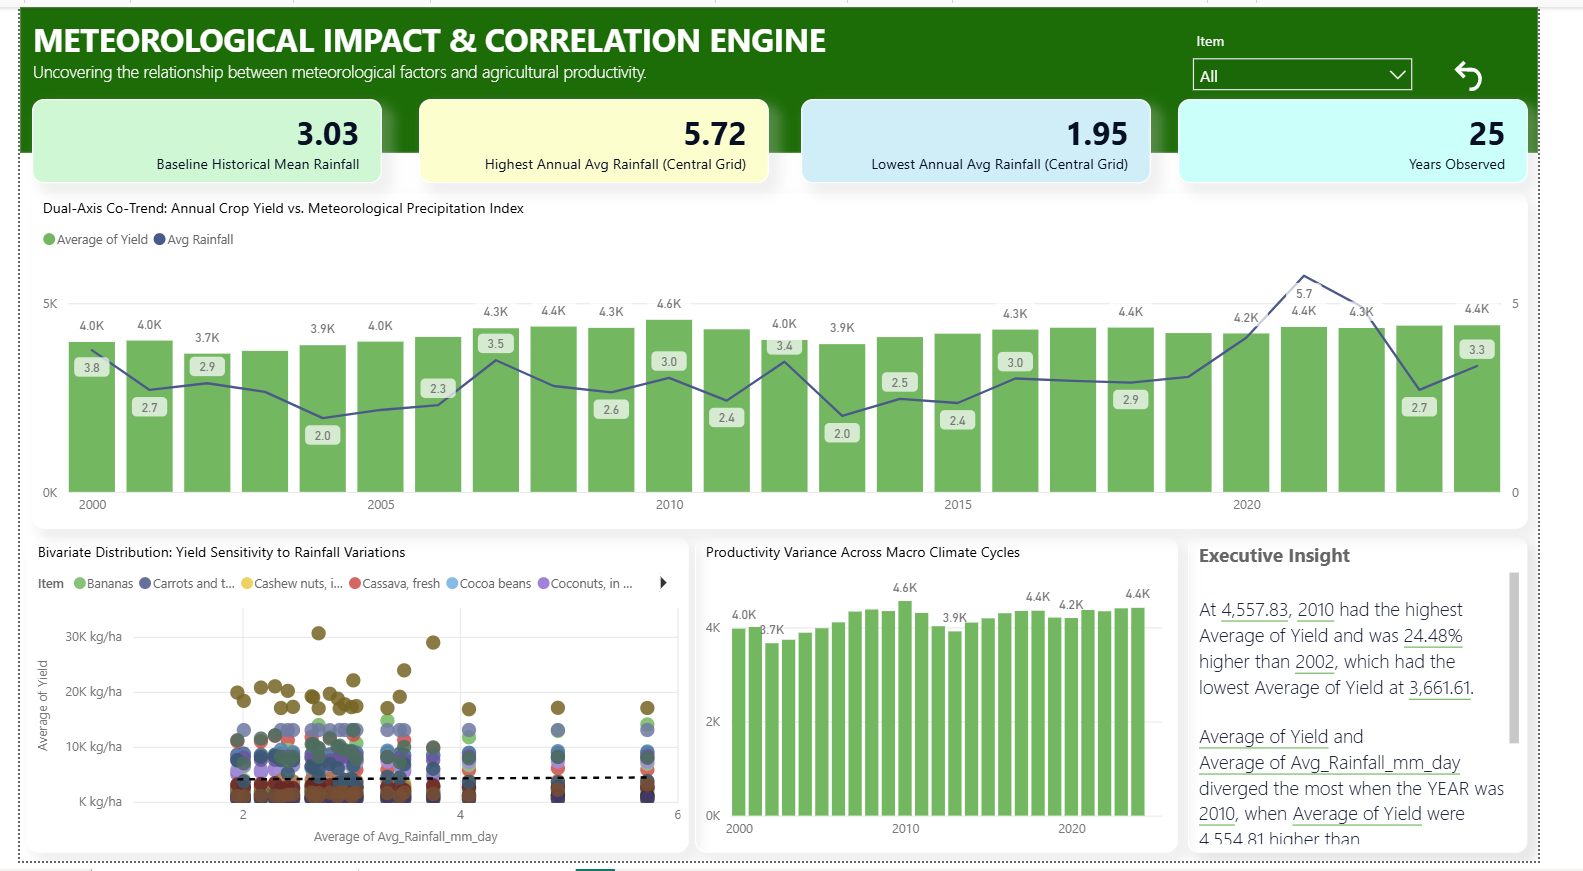

This screenshot's page, from the dashboard's own definition file:
{"tool":"powerbi","page":{"name":"CLIMATE CORRELATION ENGINE","canvas":[1280,720],"ordinal":1},"visuals":[{"type":"shape","box":[0,0,1280,123.1],"z":0},{"type":"cardVisual","title":"Baseline Historical Mean Rainfall","fields":{"Data":["POWER_Regional_Monthly_2000_2024.Baseline Historical Mean Rainfall"]},"box":[9.7,77.9,295,70.7],"z":1000,"group":"g1"},{"type":"scatterChart","title":"Bivariate Distribution: Yield Sensitivity to Rainfall Variations","fields":{"Y":["Avg(FAOSTAT_data_en_5-16-2026.Yield)"],"X":["POWER_Regional_Monthly_2000_2024.Avg_Rainfall_mm_day"],"Series":["FAOSTAT_data_en_5-16-2026.Item"],"Category":["POWER_Regional_Monthly_2000_2024.YEAR"]},"box":[6.2,447,558.3,265.9],"z":1000},{"type":"cardVisual","title":"Land Footprint","fields":{"Data":["POWER_Regional_Monthly_2000_2024.Peak Precipitation Event"]},"box":[335.7,77.9,295,70.7],"z":2000,"group":"g1"},{"type":"clusteredColumnChart","title":"Productivity Variance Across Macro Climate Cycles","fields":{"Category":["POWER_Regional_Monthly_2000_2024.YEAR"],"Y":["Avg(FAOSTAT_data_en_5-16-2026.Yield)"]},"box":[568.9,447,407.2,265.9],"z":2000},{"type":"textbox","box":[6.3,4.5,686.9,45.7],"z":3000},{"type":"cardVisual","title":"Land Footprint","fields":{"Data":["POWER_Regional_Monthly_2000_2024.Critical Drought Baselines"]},"box":[658.1,77.9,295,70.7],"z":3000,"group":"g1"},{"type":"slicer","fields":{"Values":["FAOSTAT_data_en_5-16-2026.Item"]},"box":[979,15.5,205.3,62.1],"z":4000},{"type":"cardVisual","title":"Land Footprint","fields":{"Data":["POWER_Regional_Monthly_2000_2024.Systemic Climate Observation Lifecycle"]},"box":[976.1,77.9,295,70.7],"z":4000,"group":"g1"},{"type":"actionButton","title":"RESET","box":[1173.1,40.3,97.6,34.9],"z":5000},{"type":"textbox","title":"Executive Insight ","box":[985,447,286.2,265.9],"z":6000},{"type":"textbox","box":[6.3,39.4,557.9,30.4],"z":7000},{"type":"lineClusteredColumnComboChart","title":"Dual-Axis Co-Trend: Annual Crop Yield vs. Meteorological Precipitation Index","fields":{"Category":["POWER_Regional_Monthly_2000_2024.YEAR"],"Y":["Avg(FAOSTAT_data_en_5-16-2026.Yield)"],"Y2":["POWER_Regional_Monthly_2000_2024.Avg Rainfall"]},"box":[10.1,156.5,1260.8,282.6],"z":8000},{"type":"group","id":"g1","title":"Group 1","box":[9.7,77.9,1261.4,70.7],"z":9000}]}

Visuals, with their boxes in screenshot pixels (x1, y1, x2, y2), scaled from the page's 1280x720 canvas onto the 1583x871 screenshot:
shape: [left=0, top=0, right=1582, bottom=149]
"Baseline Historical Mean Rainfall" cardVisual: [left=12, top=94, right=377, bottom=180]
"Bivariate Distribution: Yield Sensitivity to Rainfall Variations" scatterChart: [left=8, top=541, right=698, bottom=862]
"Land Footprint" cardVisual: [left=415, top=94, right=780, bottom=180]
"Productivity Variance Across Macro Climate Cycles" clusteredColumnChart: [left=704, top=541, right=1207, bottom=862]
textbox: [left=8, top=5, right=857, bottom=61]
"Land Footprint" cardVisual: [left=814, top=94, right=1179, bottom=180]
slicer - FAOSTAT_data_en_5-16-2026.Item: [left=1211, top=19, right=1465, bottom=94]
"Land Footprint" cardVisual: [left=1207, top=94, right=1572, bottom=180]
"RESET" actionButton: [left=1451, top=49, right=1571, bottom=91]
"Executive Insight " textbox: [left=1218, top=541, right=1572, bottom=862]
textbox: [left=8, top=48, right=698, bottom=84]
"Dual-Axis Co-Trend: Annual Crop Yield vs. Meteorological Precipitation Index" lineClusteredColumnComboChart: [left=12, top=189, right=1572, bottom=531]
"Group 1" group: [left=12, top=94, right=1572, bottom=180]
